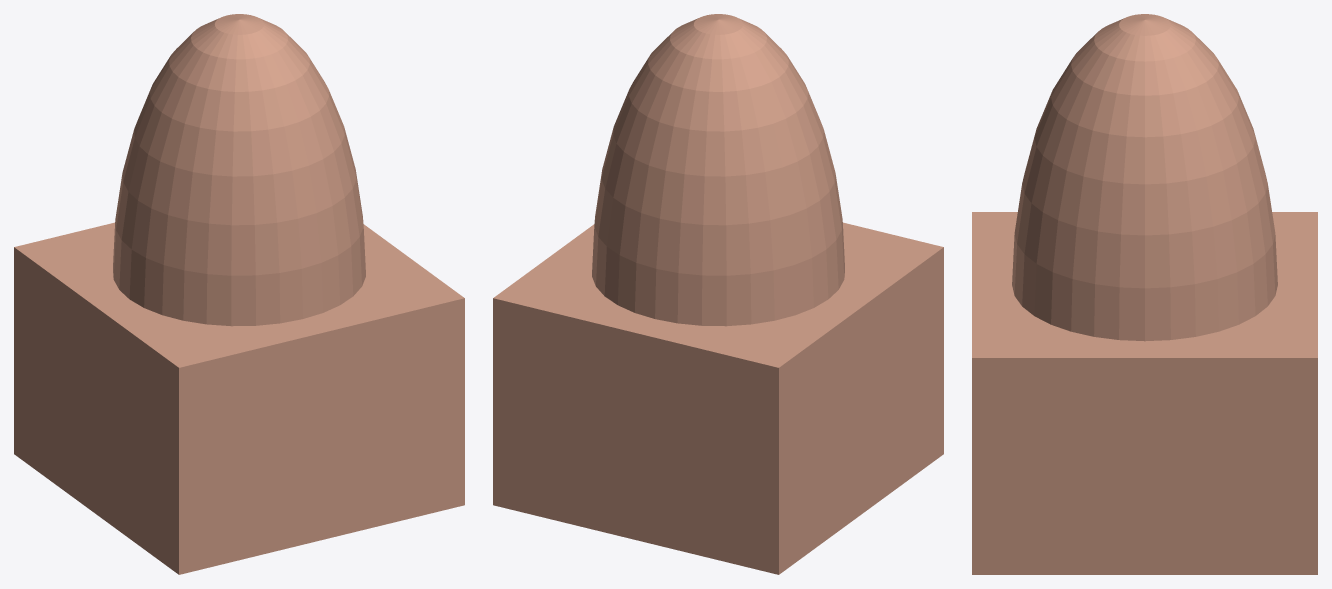
Rendered from place-soltaniyeh-mausoleum.glb.
3 renders of one model, left to right at view 1: azimuth 30°, elevation 25°; view 2: azimuth 150°, elevation 25°; view 3: azimuth 270°, elevation 25°, orthographic. The views are drawn at different scales.
Visible parts, largest first — view 1: place-soltaniyeh-mausoleum; view 2: place-soltaniyeh-mausoleum; view 3: place-soltaniyeh-mausoleum.
Part boxes in pixels (box(x1,y1,x2,y2)): place-soltaniyeh-mausoleum: box(14, 14, 464, 574); place-soltaniyeh-mausoleum: box(493, 14, 943, 574); place-soltaniyeh-mausoleum: box(972, 14, 1317, 574).
Size of the model in its own units: 32.5 by 50 by 32.5.
